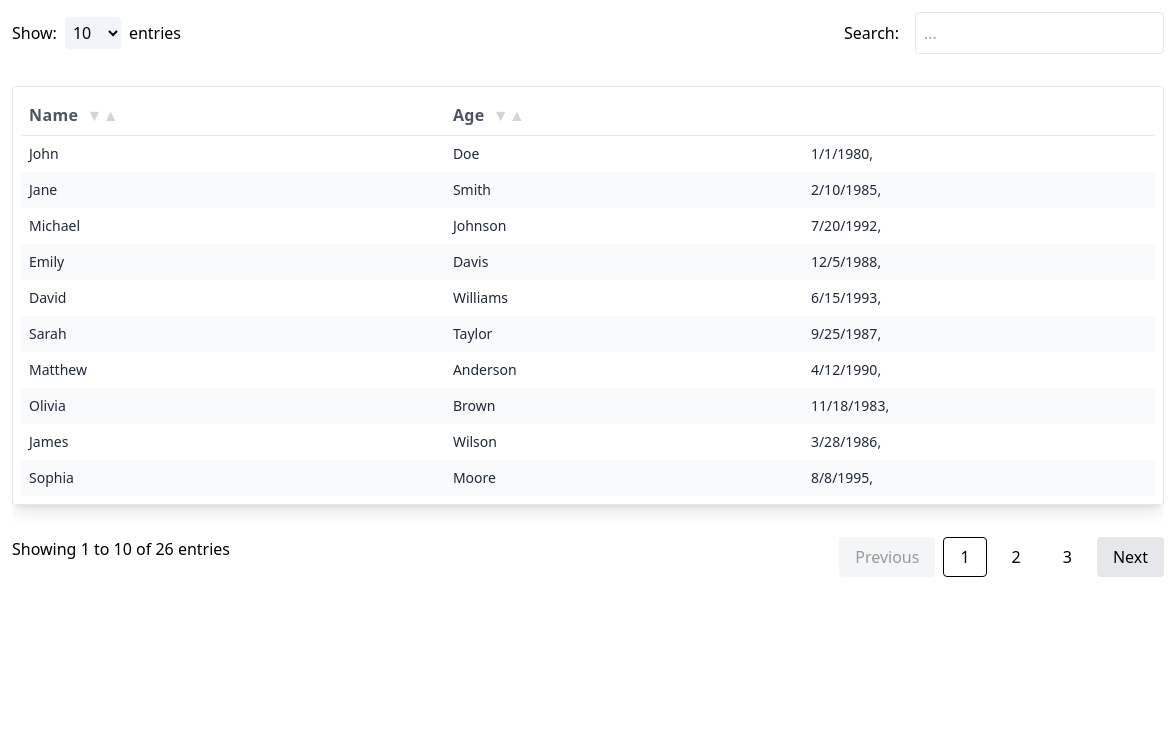
Table component | integration tests › When rendered with pagination › And when pagination button is clicked › Should display correct pagination information
The image size is (1176, 732).
Click the button "2": click(1016, 557) left=995, top=537, right=1038, bottom=577
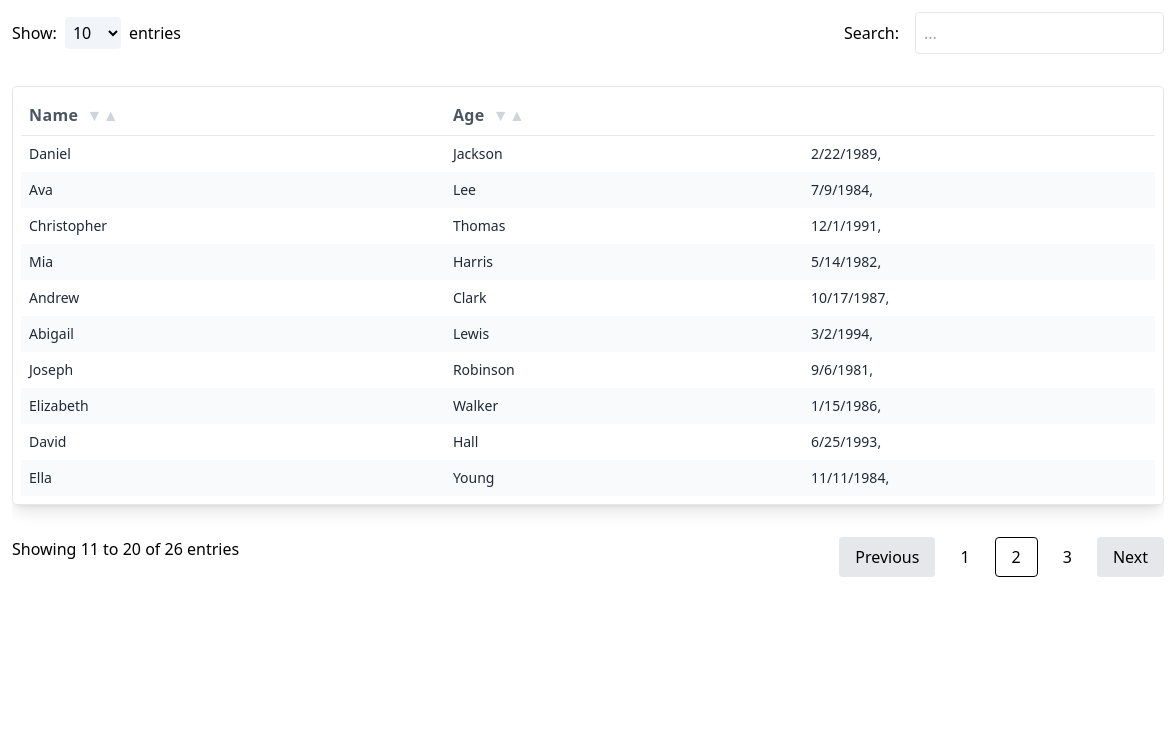
Expected: the text "Showing 11 to 20 of 26 entries" is shown, left=12, top=538, right=239, bottom=560
